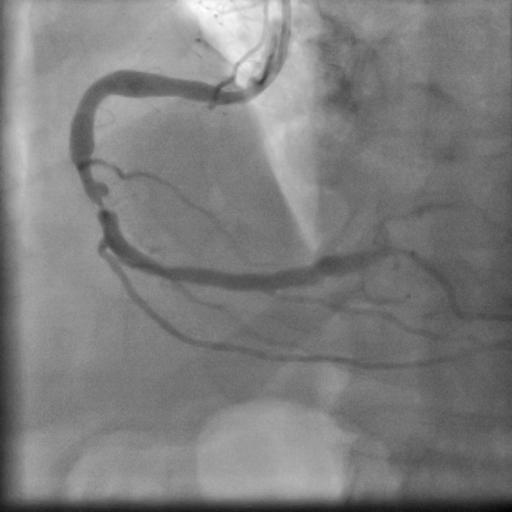Stenosis: (73, 170, 115, 221)
